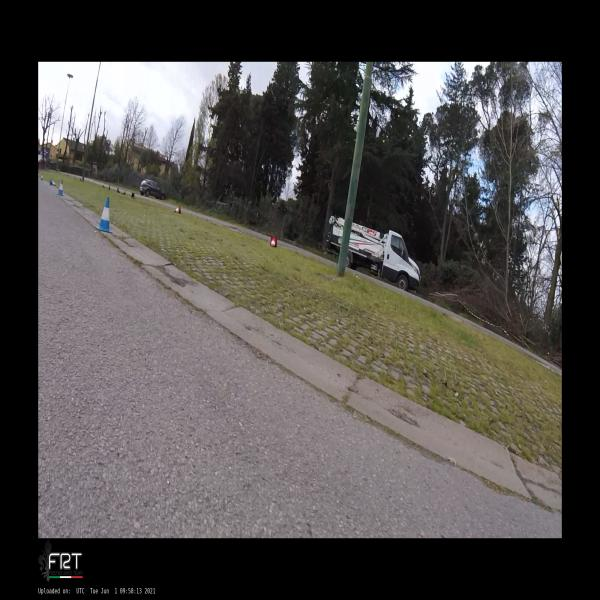blue_cone: (96, 198, 112, 234), (56, 180, 64, 196), (50, 178, 56, 186), (40, 173, 44, 181)
orange_cone: (270, 236, 278, 248), (173, 206, 181, 214)
unknown_cone: (121, 190, 126, 196), (131, 193, 135, 198), (117, 188, 120, 193), (108, 185, 110, 190)
